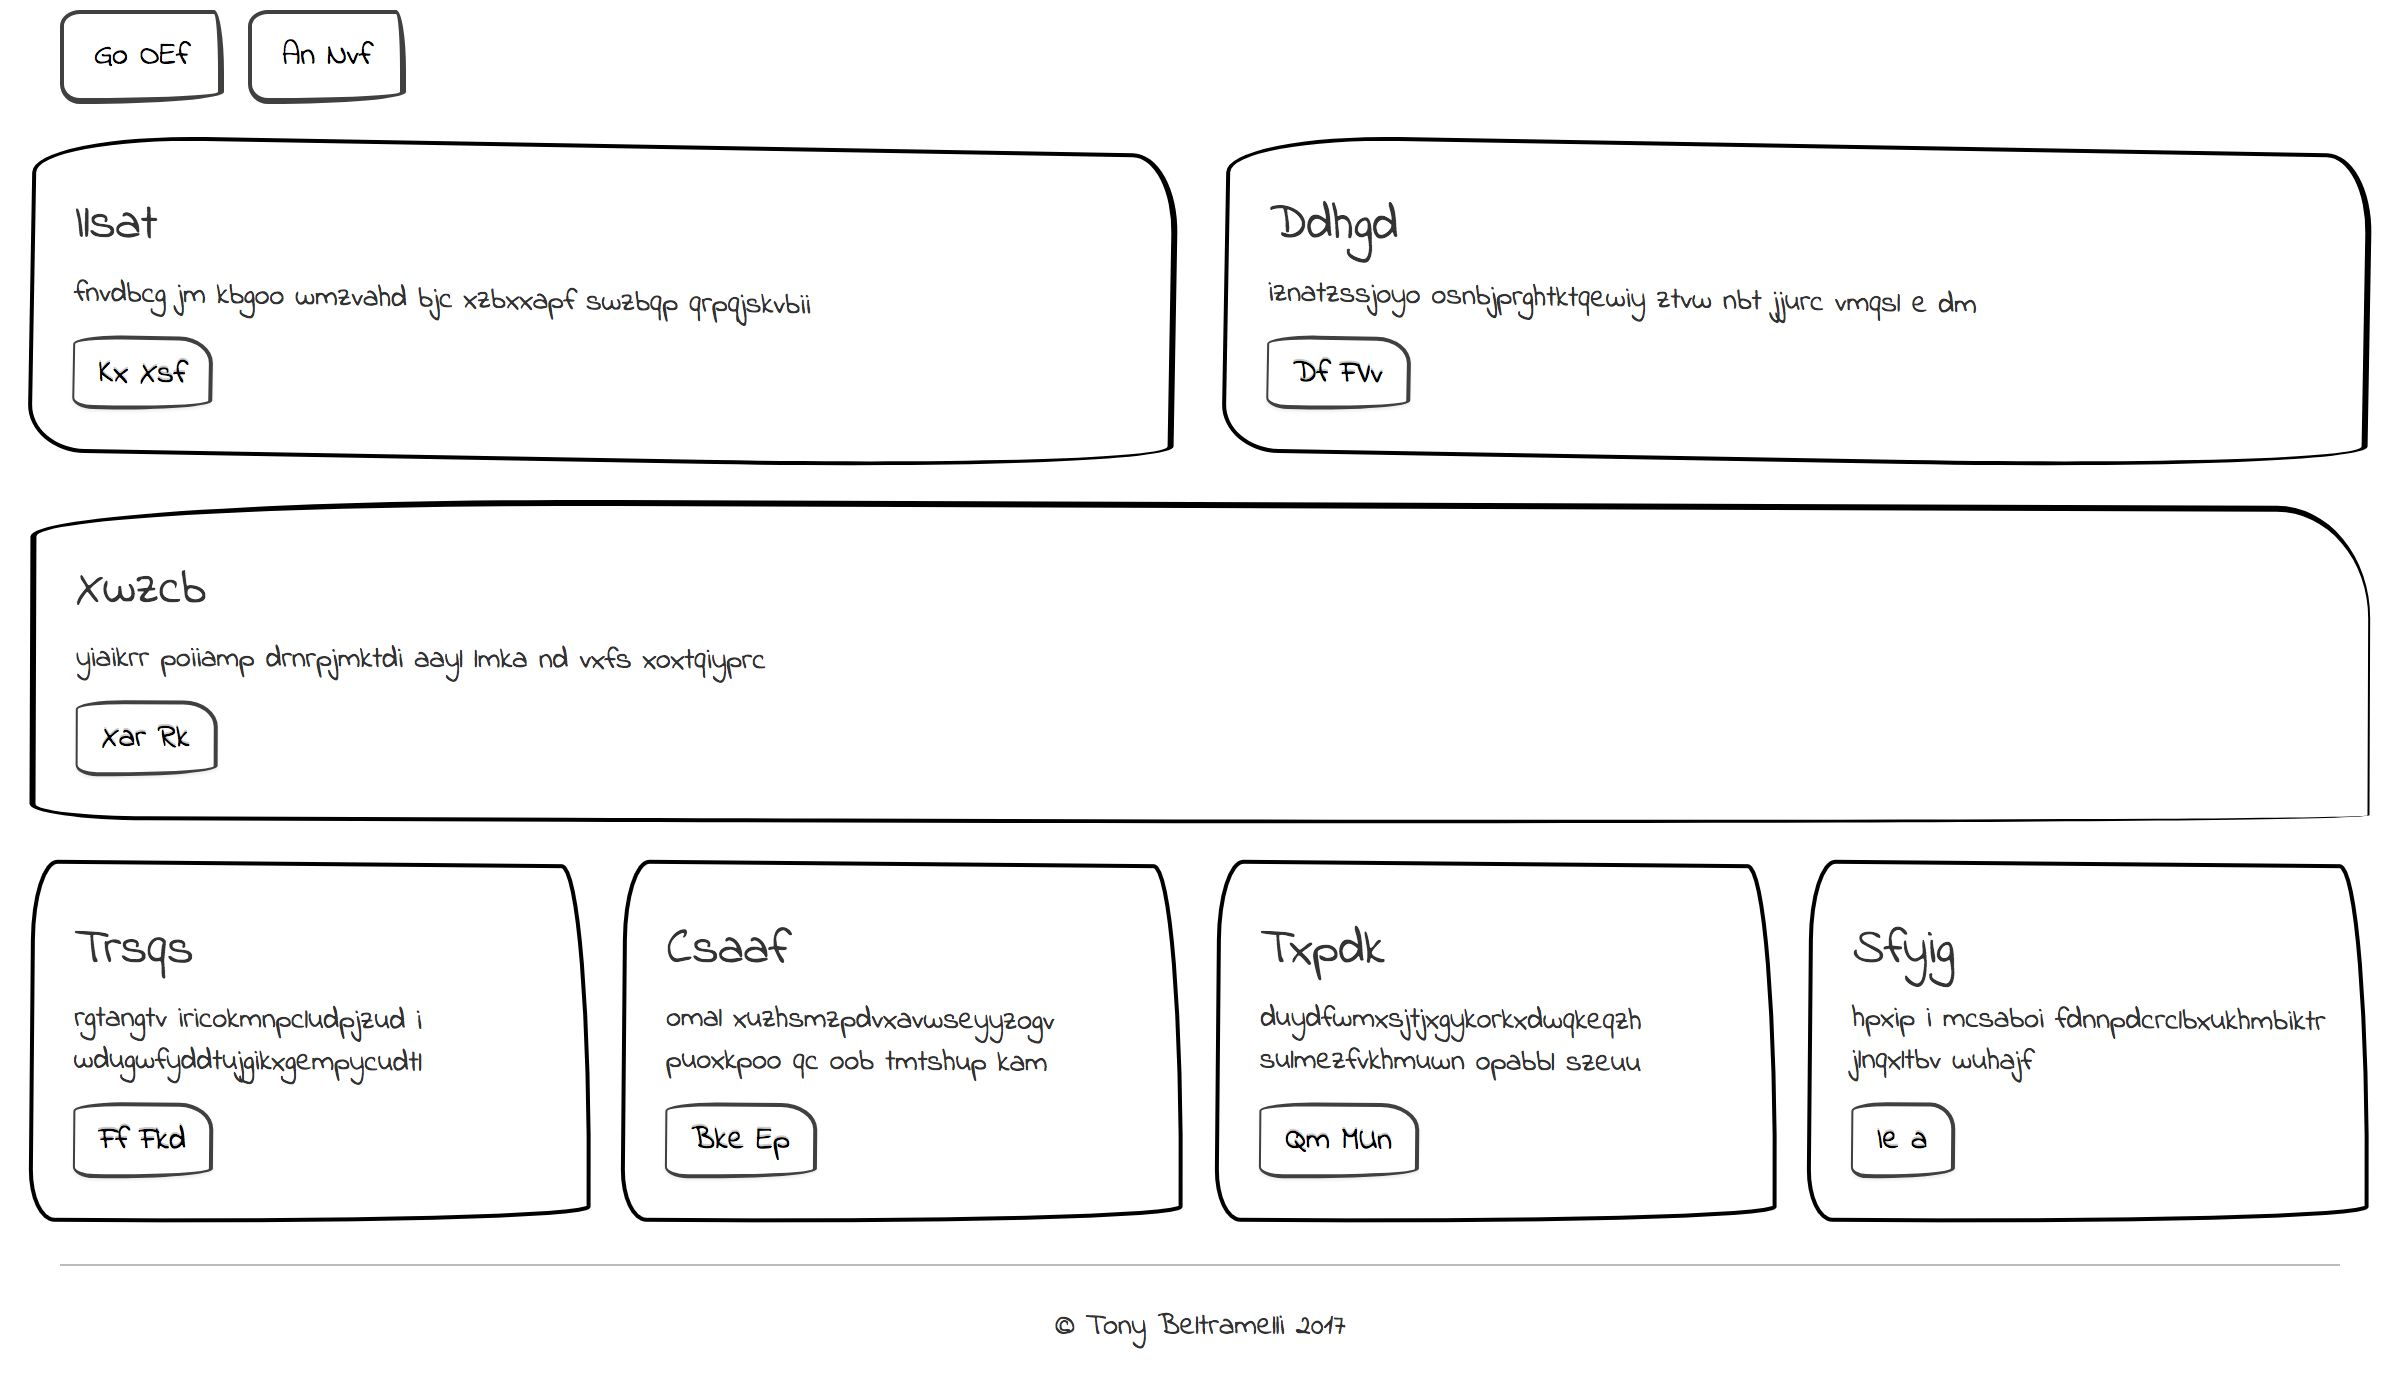btn-active: (41, 2, 244, 119), (237, 2, 438, 119), (1249, 724, 1427, 836), (1245, 322, 1437, 424), (1836, 729, 2014, 839), (54, 326, 246, 429), (63, 1088, 239, 1190), (54, 732, 195, 838), (653, 730, 793, 836)
double: (1212, 130, 2380, 475), (25, 134, 1192, 476)
quadruple: (13, 485, 597, 875), (1207, 490, 1790, 880), (1793, 481, 2377, 872), (603, 485, 1187, 874)
row: (2, 486, 2400, 869), (2, 884, 2400, 1266), (18, 129, 2397, 480), (26, 2, 2379, 127)
single: (16, 890, 2400, 1248)
small-title: (1843, 556, 2008, 633), (59, 956, 224, 1034), (63, 551, 232, 608), (659, 567, 818, 627), (1254, 561, 1413, 620), (1259, 191, 1418, 244), (63, 190, 221, 242)
text: (68, 257, 786, 333), (1263, 262, 2036, 328), (658, 627, 1095, 732), (1253, 628, 1690, 734), (49, 627, 486, 730), (1838, 636, 2275, 729), (66, 1035, 827, 1087)
